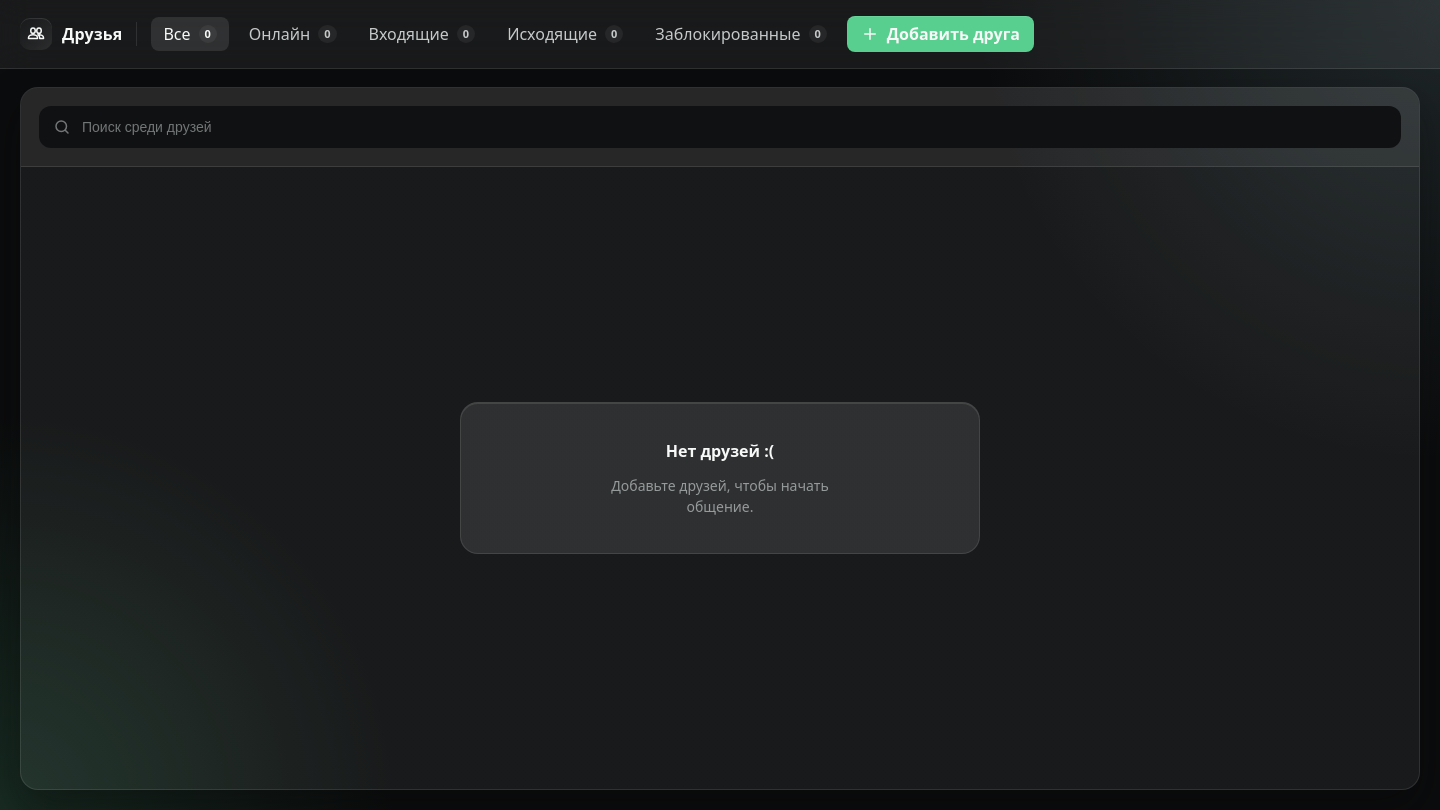
Test: FriendsPage › opens add-friend dialog from toolbar action
Click the button "Добавить друга" at [940, 34], box [847,16,1034,52]
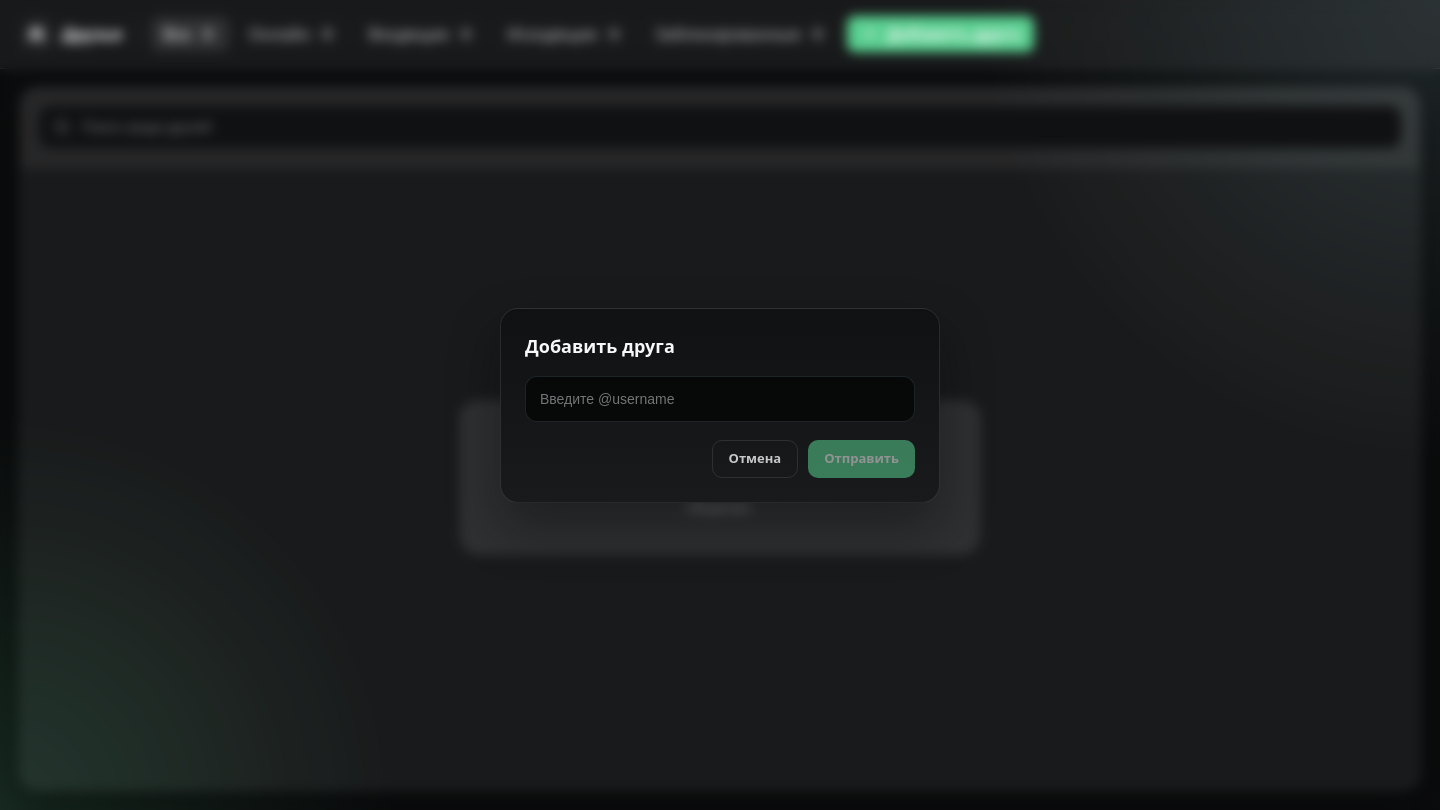
expect the dialog "Добавить друга" is shown: met, box [500,308,940,502]
